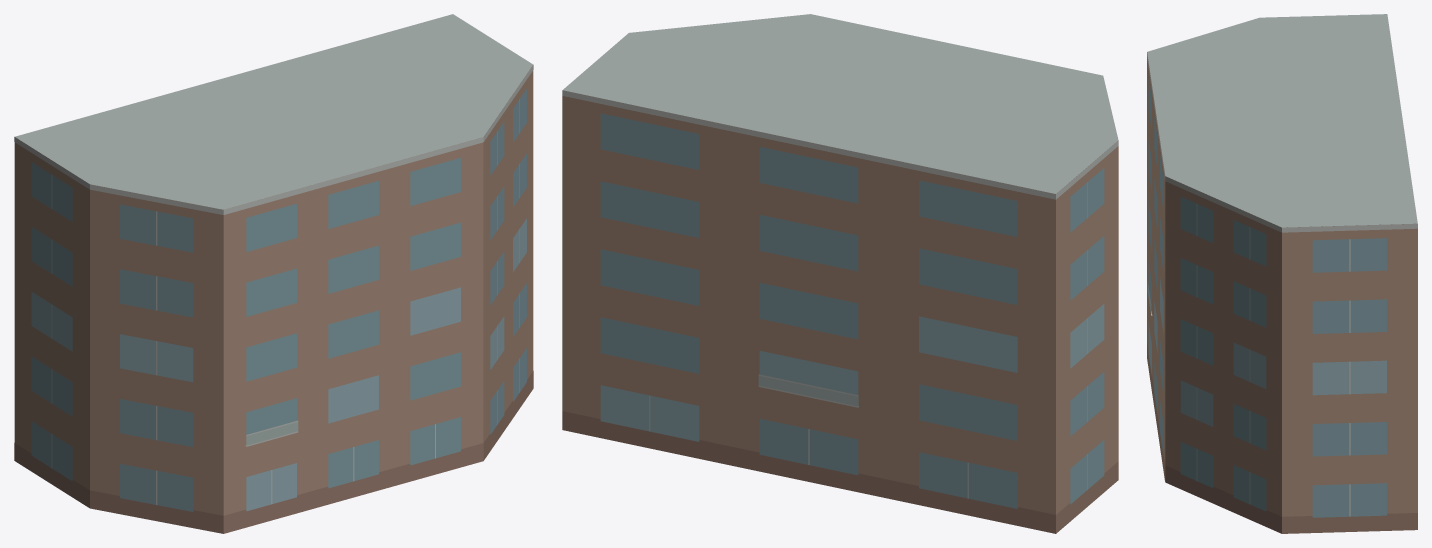
File: survey-upis-32996443.glb
3 renders of one model, left to right at view 1: azimuth 30°, elevation 25°; view 2: azimuth 150°, elevation 25°; view 3: azimuth 270°, elevation 25°, orthographic. The views are drawn at different scales.
Visible parts, largest first — view 1: survey-upis-32996443.tmp; view 2: survey-upis-32996443.tmp; view 3: survey-upis-32996443.tmp.
Boxes of the visible parts, x1,y1,x2,y2 form: survey-upis-32996443.tmp: (14,14,533,533); survey-upis-32996443.tmp: (562,14,1118,533); survey-upis-32996443.tmp: (1147,14,1417,533).
Bounding box in the file's own units: 22.07 × 14.75 × 11.83.
